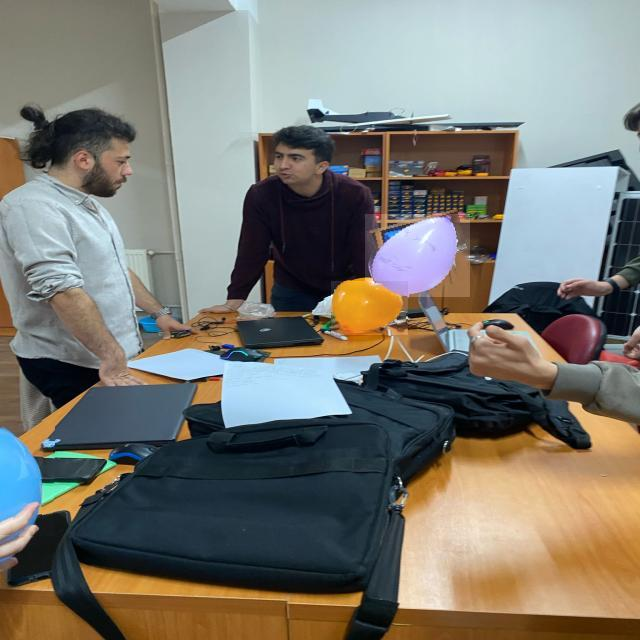balloon: (365, 214, 470, 297), (0, 420, 54, 536), (331, 282, 408, 336)
